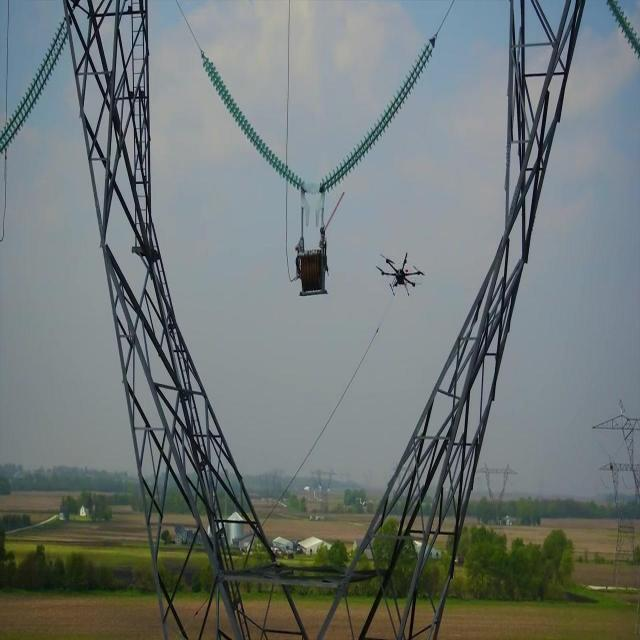UAV: (376, 252, 426, 296)
